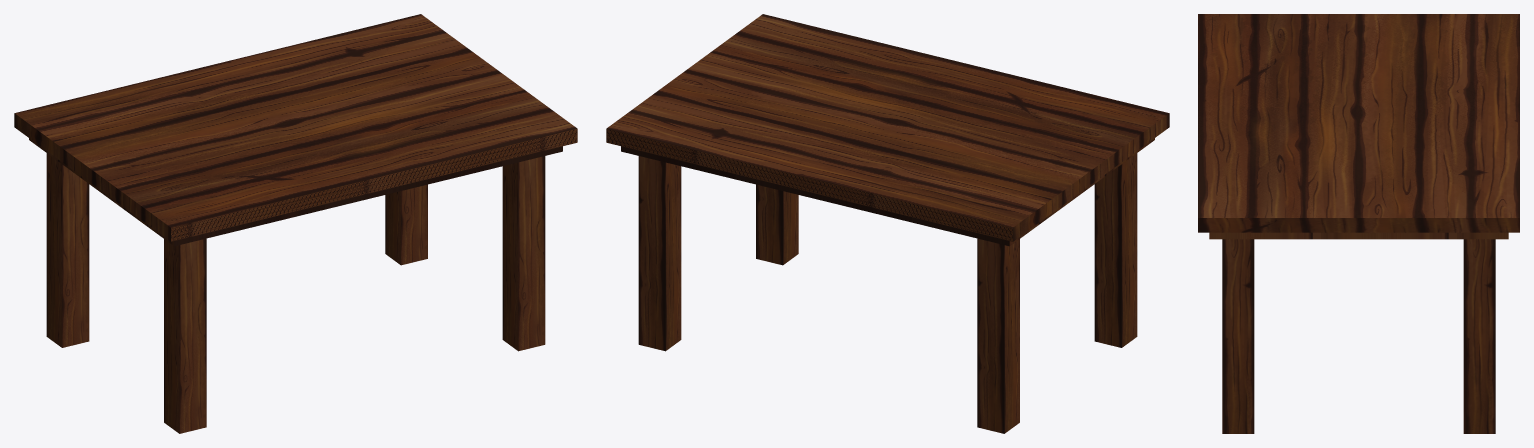
The model's file is table_1.glb.
The picture shows the model from 3 angles, left to right: view 1: azimuth 30°, elevation 25°; view 2: azimuth 150°, elevation 25°; view 3: azimuth 270°, elevation 25°; orthographic projection. The views are drawn at different scales.
Parts seen in each view (by area): view 1: table_top; view 2: table_top; view 3: table_top.
Part boxes in pixels (x1,y1,x2,y2): table_top: (14, 14, 577, 433); table_top: (606, 14, 1169, 433); table_top: (1198, 14, 1519, 433).
Size of the model in its own units: 12 by 6.2 by 8.
Materials: 2 (2 with a texture image).
